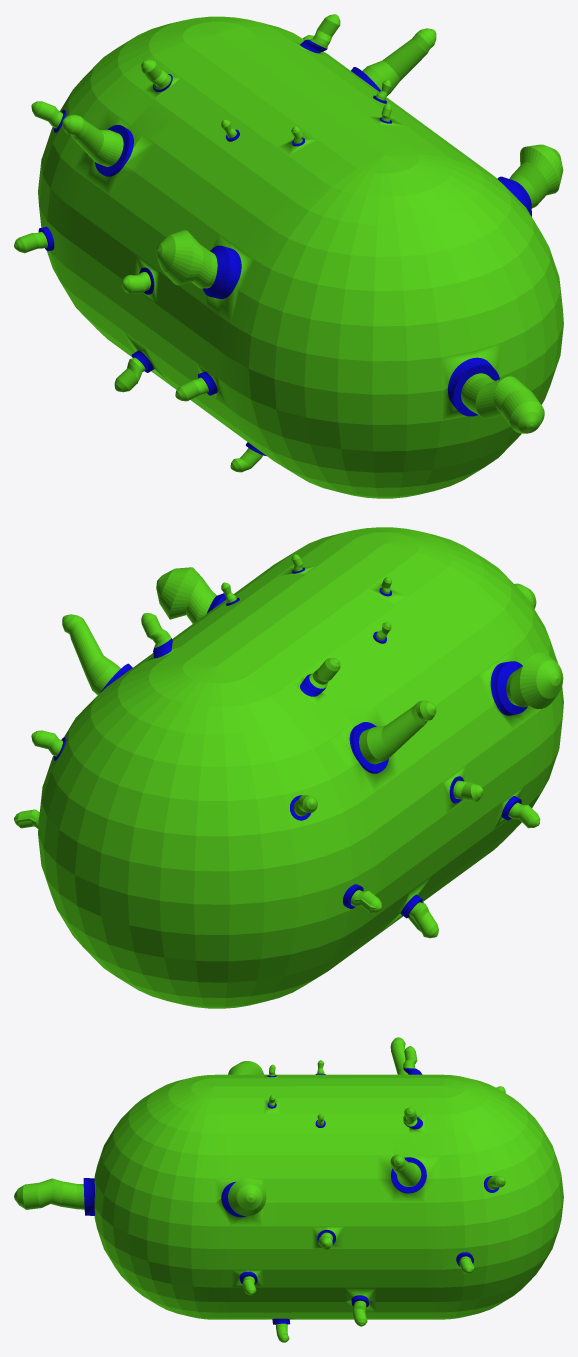
Rendered from Virus_1.fbx.
The picture shows the model from 3 angles, top to bottom: view 1: azimuth 30°, elevation 25°; view 2: azimuth 150°, elevation 25°; view 3: azimuth 270°, elevation 25°; orthographic projection. The views are drawn at different scales.
Visible parts, largest first — view 1: Virus1; view 2: Virus1; view 3: Virus1.
Part boxes in pixels (left/top/right/bottom): Virus1: left=14, top=14, right=563, bottom=498; Virus1: left=14, top=527, right=563, bottom=1008; Virus1: left=14, top=1037, right=563, bottom=1342.
Size of the model in its own units: 257 by 210 by 449.
